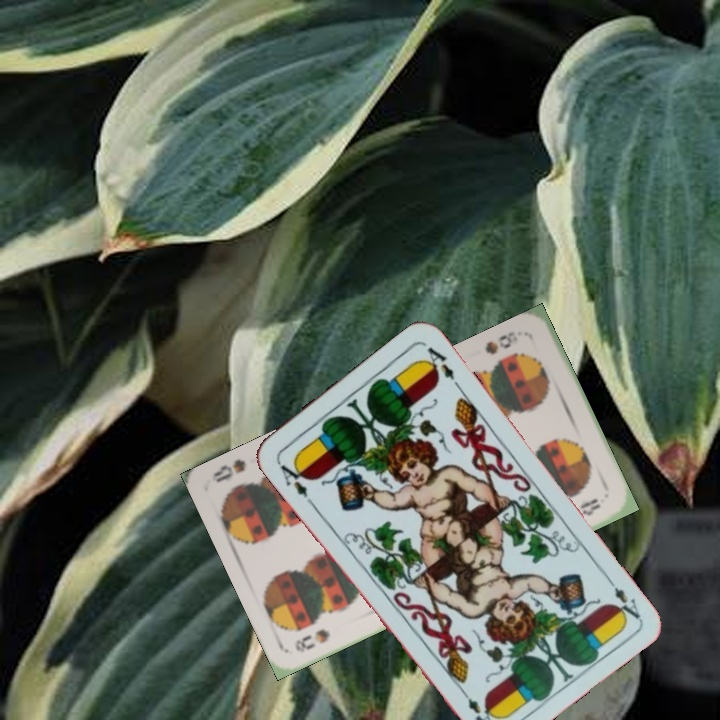EA: (601, 570, 643, 625), (273, 455, 315, 507)
S8: (291, 624, 333, 655), (480, 327, 520, 357)
